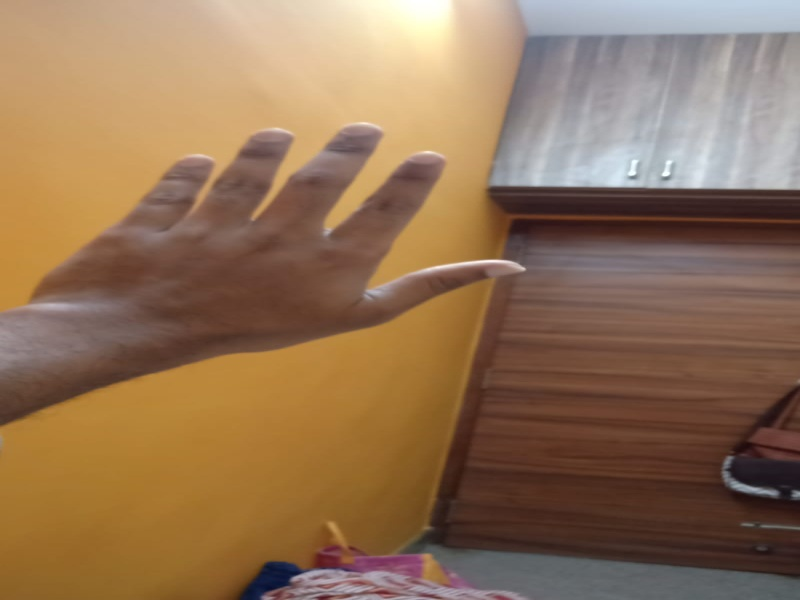Hand: (19, 117, 532, 362)
